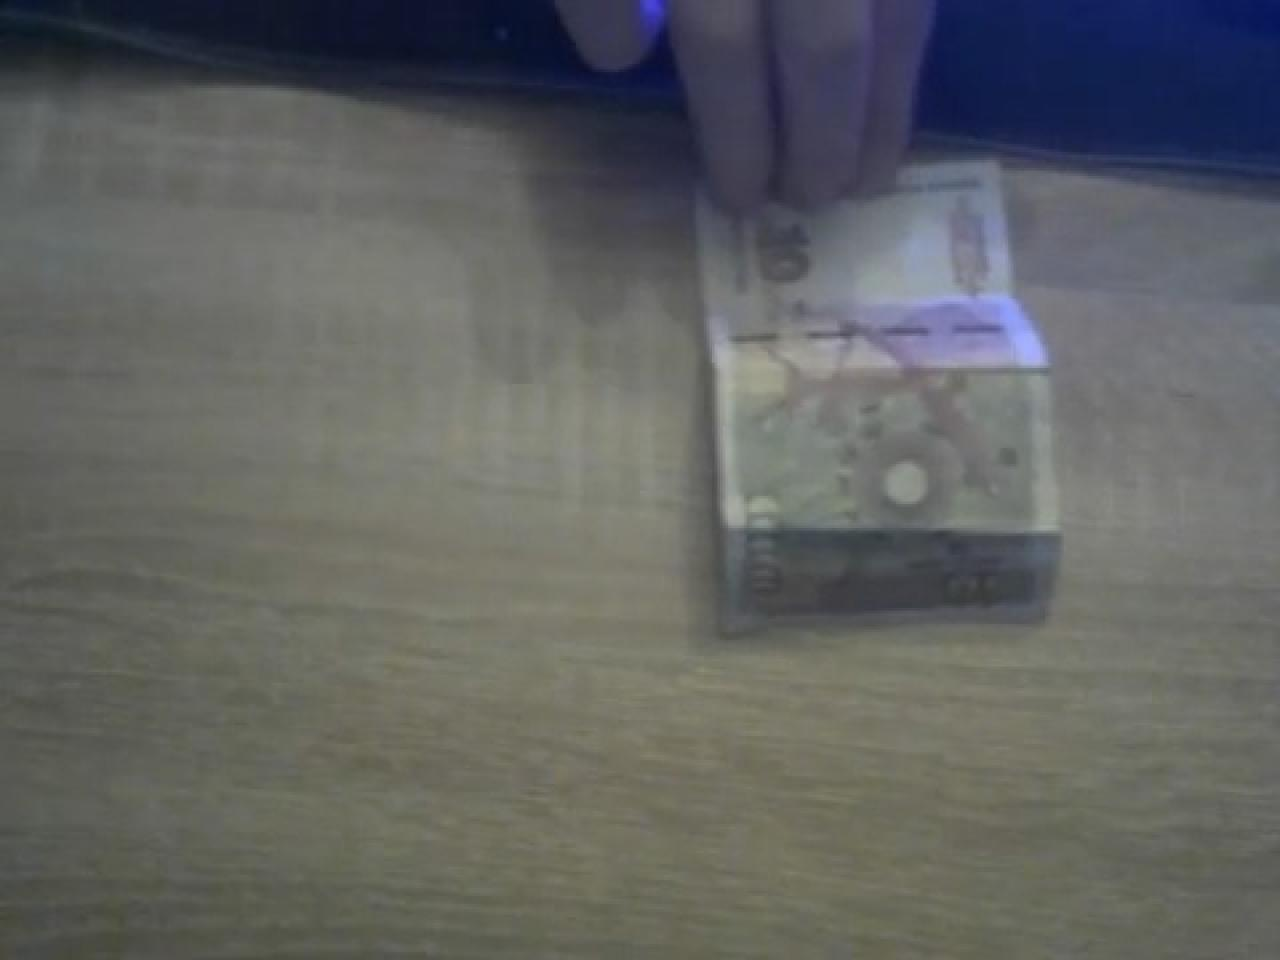10leva: (707, 160, 1064, 634)
